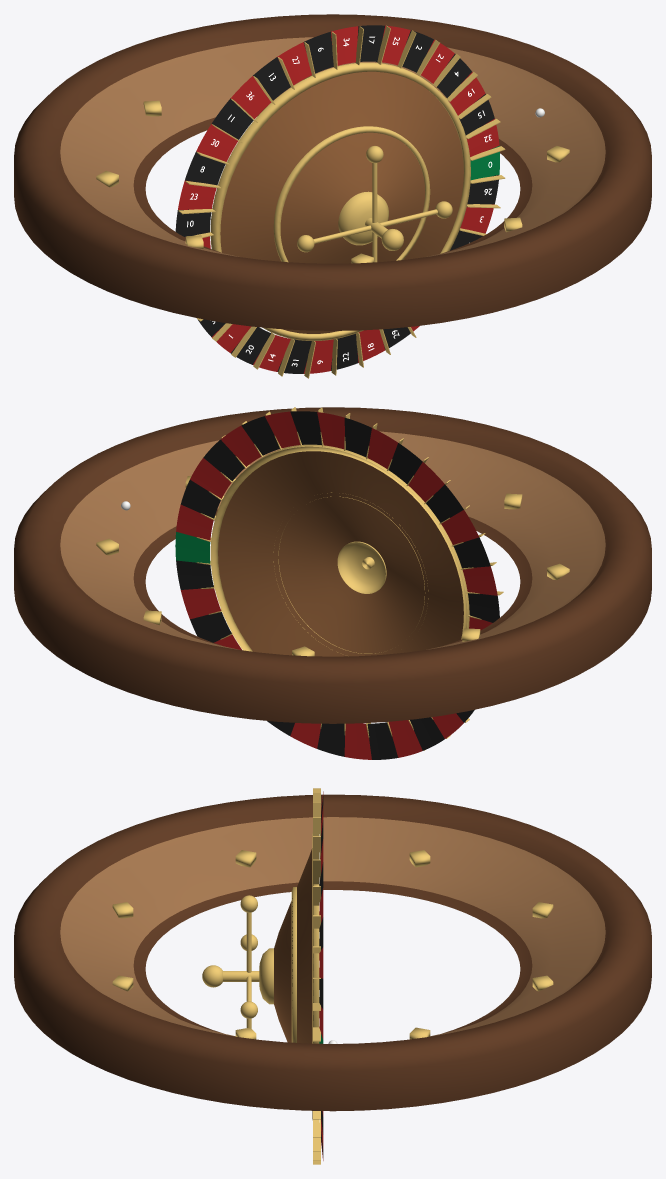
The model's file is RuletaReal.fbx.
3 views of the same model, one above another, from view 1: azimuth 30°, elevation 25°; view 2: azimuth 150°, elevation 25°; view 3: azimuth 270°, elevation 25° (orthographic).
Visible parts, largest first — view 1: cuenco.001, cono_madera.001, pista_bola.001, aro_bronce.001, aro_medio.001, cubo_central.001, casillero_11.001, casillero_30.001, casillero_36.001, casillero_8.001, casillero_13.001, casillero_23.001 (+22 smaller); view 2: cuenco.001, cono_madera.001, pista_bola.001, aro_bronce.001, cubo_central.001, casillero_3.001, casillero_26.001, casillero_0.001, casillero_32.001, casillero_15.001, casillero_31.001, casillero_9.001 (+21 smaller); view 3: cuenco.001, pista_bola.001, cono_madera.001, aro_medio.001, aro_bronce.001, cubo_central.001.
Boxes of the visible parts, <box> form: cuenco.001: <box>14,14,651,330</box>; cono_madera.001: <box>220,71,463,333</box>; pista_bola.001: <box>60,37,605,256</box>; aro_bronce.001: <box>210,62,470,340</box>; aro_medio.001: <box>273,126,430,262</box>; cubo_central.001: <box>338,191,388,245</box>; casillero_11.001: <box>211,98,253,139</box>; casillero_30.001: <box>196,124,237,161</box>; casillero_36.001: <box>230,76,271,118</box>; casillero_8.001: <box>185,151,225,185</box>; casillero_13.001: <box>253,57,290,100</box>; casillero_23.001: <box>178,180,216,209</box>; cuenco.001: <box>14,407,651,723</box>; cono_madera.001: <box>218,451,463,656</box>; pista_bola.001: <box>60,431,605,649</box>; aro_bronce.001: <box>210,444,469,651</box>; cubo_central.001: <box>337,541,386,593</box>; casillero_3.001: <box>180,588,221,619</box>; casillero_26.001: <box>176,560,213,589</box>; casillero_0.001: <box>175,532,210,563</box>; casillero_32.001: <box>176,504,213,540</box>; casillero_15.001: <box>180,480,220,518</box>; casillero_31.001: <box>367,722,398,759</box>; casillero_9.001: <box>344,723,371,759</box>; cuenco.001: <box>14,794,651,1111</box>; pista_bola.001: <box>60,817,605,1036</box>; cono_madera.001: <box>274,848,312,1043</box>; aro_medio.001: <box>291,887,296,1042</box>; aro_bronce.001: <box>312,832,319,1120</box>; cubo_central.001: <box>259,948,273,1004</box>.
Bounding box in the file's own units: 8 × 4.72 × 8.
